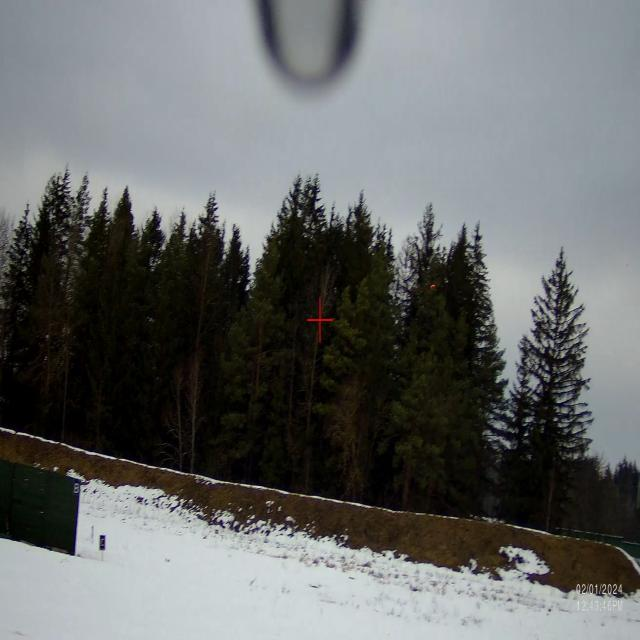entire: (428, 277, 444, 294)
